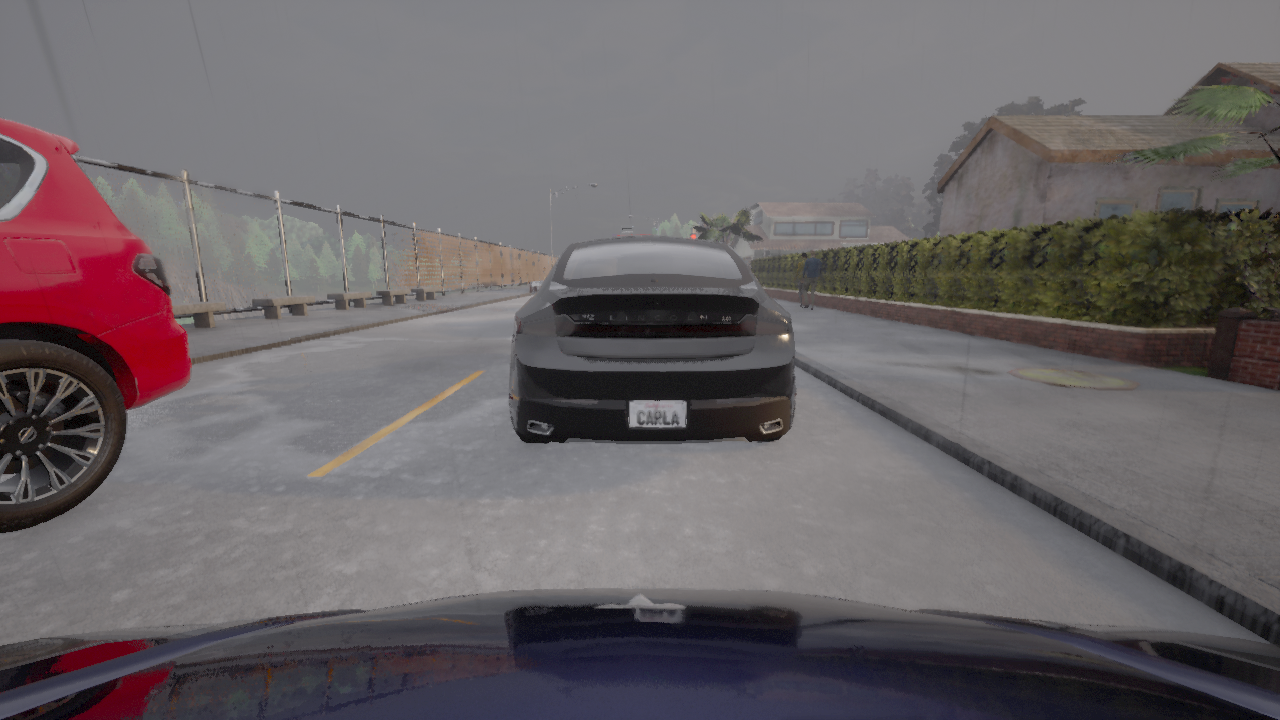cyclist: (0, 588, 1279, 719), (509, 235, 795, 444), (610, 225, 659, 237)
pedestrian: (801, 250, 822, 310), (793, 252, 809, 308)
